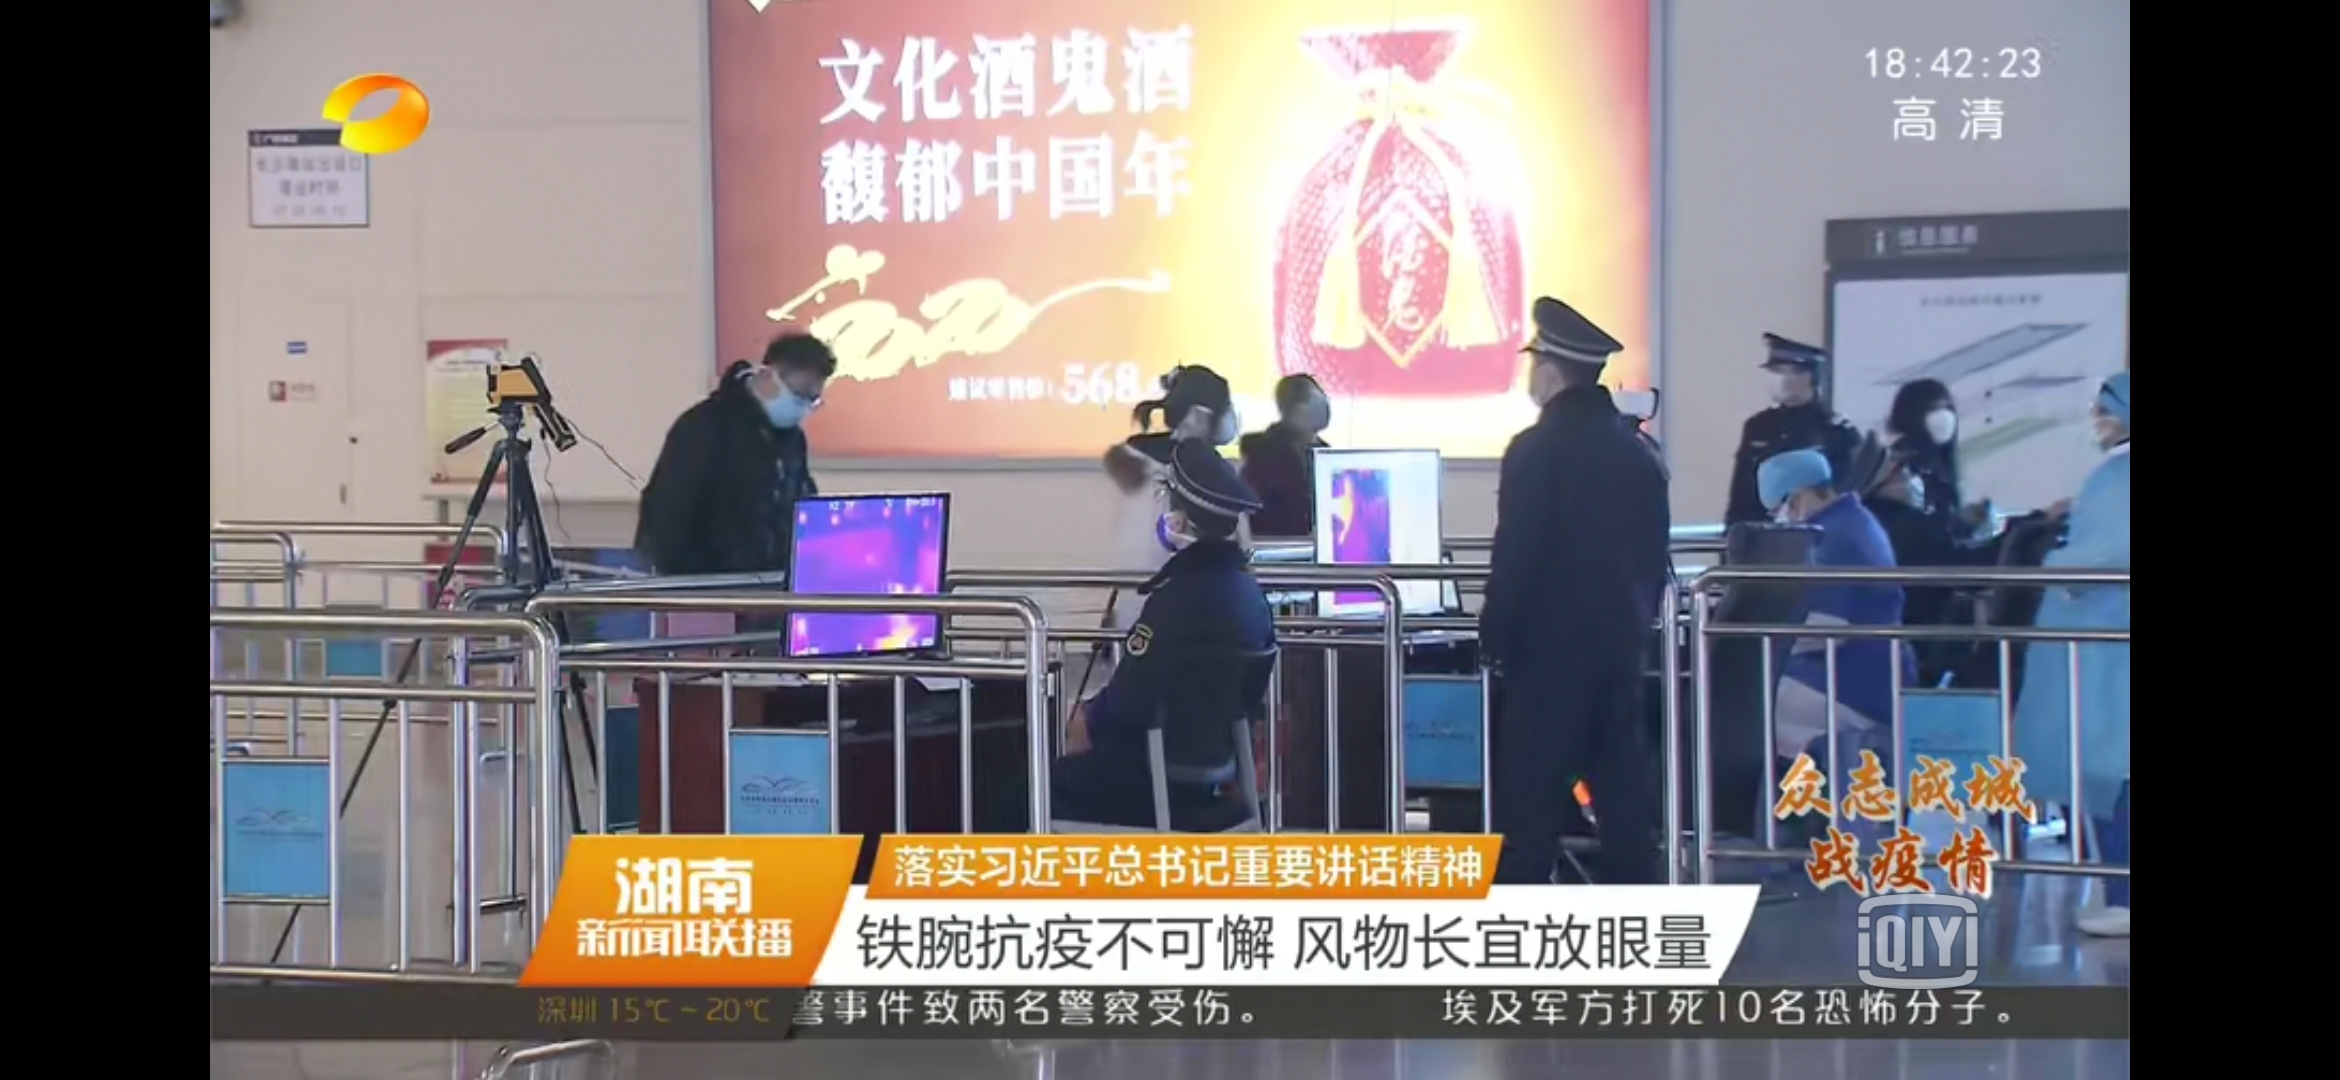correctlyWear: (758, 360, 830, 434), (2089, 386, 2131, 450), (1762, 360, 1815, 407), (1198, 389, 1239, 448), (1922, 394, 1962, 448), (1298, 388, 1331, 431)
